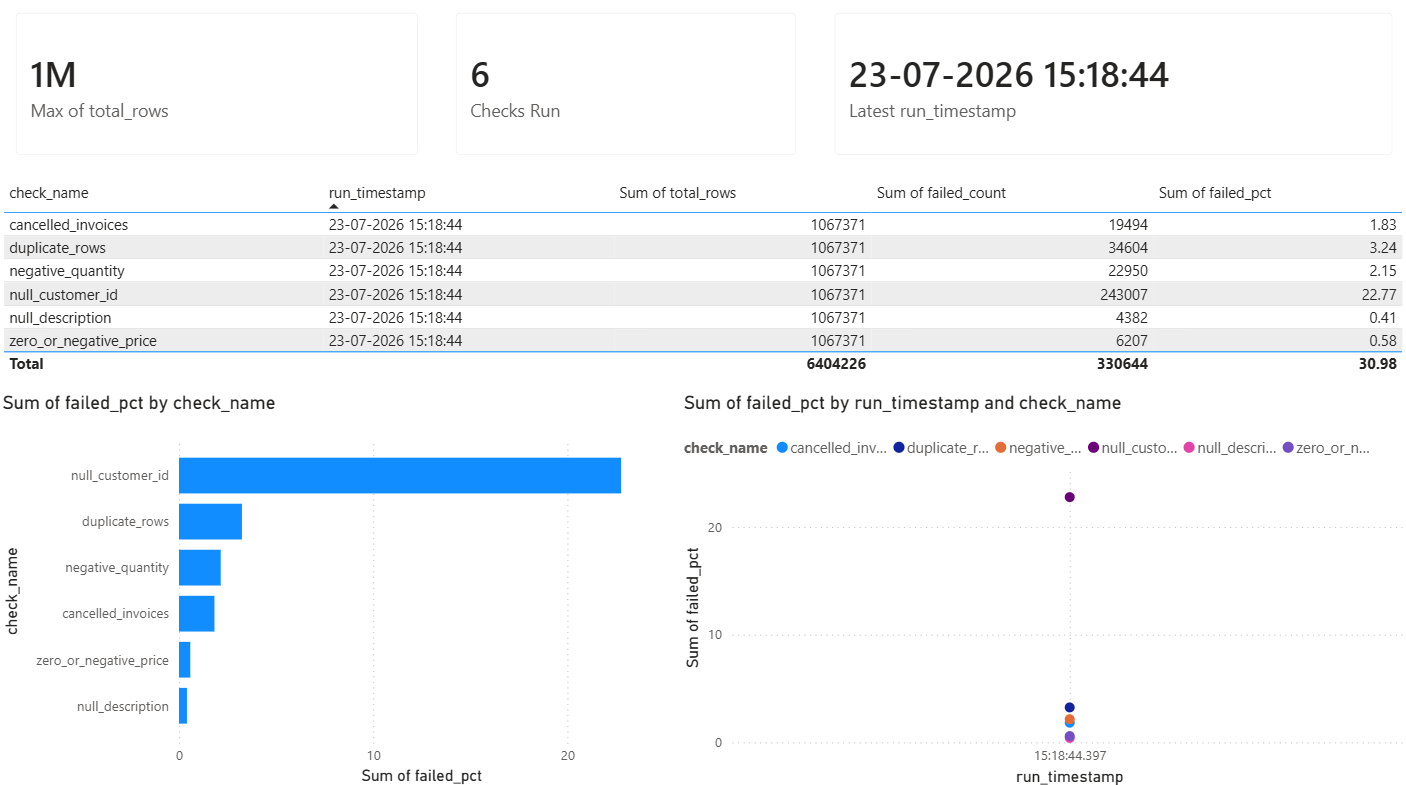

This screenshot's page, from the dashboard's own definition file:
{"tool":"powerbi","page":{"name":"DQ Health","canvas":[1280,720],"ordinal":3},"visuals":[{"type":"tableEx","fields":{"Values":["dq_results.check_name","dq_results.run_timestamp","Sum(dq_results.total_rows)","Sum(dq_results.failed_count)","Sum(dq_results.failed_pct)"]},"box":[0,163.8,1279.7,195.7],"z":0},{"type":"cardVisual","fields":{"Data":["Max(dq_results.total_rows)"]},"box":[0,0,398.6,163.8],"z":1000},{"type":"cardVisual","fields":{"Data":["dq_results.Checks Run"]},"box":[398.6,0,342,163.8],"z":2000},{"type":"cardVisual","fields":{"Data":["Max(dq_results.run_timestamp)"]},"box":[740.6,0,539.1,163.8],"z":3000},{"type":"clusteredBarChart","fields":{"Category":["dq_results.check_name"],"Y":["Sum(dq_results.failed_pct)"]},"box":[0,359.4,615.9,360.9],"z":4000},{"type":"lineChart","fields":{"Category":["dq_results.run_timestamp"],"Series":["dq_results.check_name"],"Y":["Sum(dq_results.failed_pct)"]},"box":[615.9,359.4,663.8,360.9],"z":4001}]}

Visuals, with their boxes in screenshot pixels (x1, y1, x2, y2), scaled from the page's 1280x720 canvas onto the 1406x785 screenshot:
tableEx - dq_results.check_name x dq_results.run_timestamp: (0,179,1405,392)
cardVisual - Max(dq_results.total_rows): (0,0,438,179)
cardVisual - dq_results.Checks Run: (438,0,814,179)
cardVisual - Max(dq_results.run_timestamp): (814,0,1405,179)
clusteredBarChart - dq_results.check_name x Sum(dq_results.failed_pct): (0,392,677,784)
lineChart - dq_results.run_timestamp x dq_results.check_name: (677,392,1405,784)
